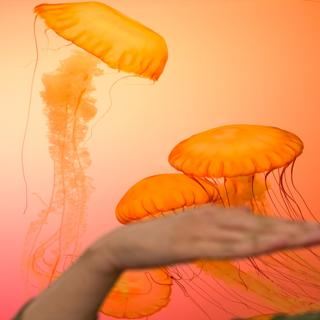WAIT: (98, 197, 320, 275)
